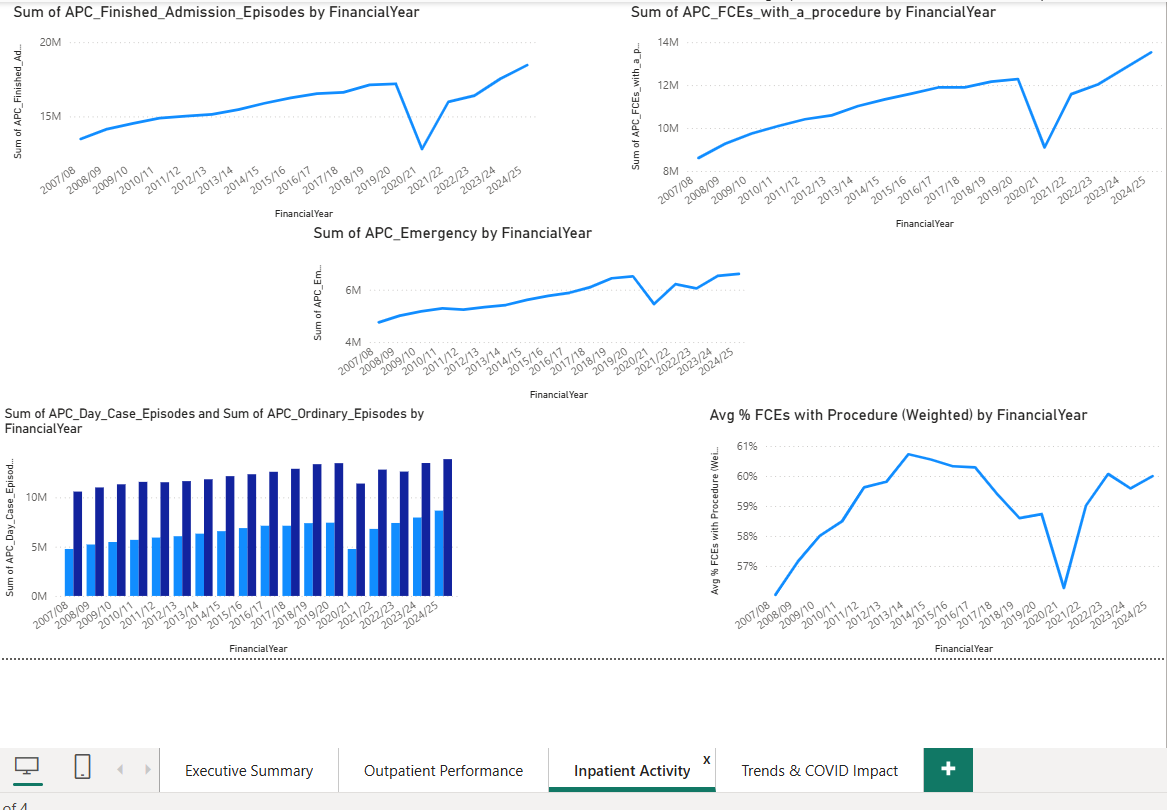

Layout of this report page (visuals, bound fields, positions):
{"tool":"powerbi","page":{"name":"Inpatient Activity","canvas":[1280,720],"ordinal":2},"visuals":[{"type":"lineChart","fields":{"Category":["Dim_Date.FinancialYear"],"Y":["Sum(Fact_Consultation.APC_Finished_Admission_Episodes)"]},"box":[9.8,0,585.7,243.3],"z":0},{"type":"clusteredColumnChart","fields":{"Category":["Dim_Date.FinancialYear"],"Y":["Sum(Fact_Consultation.APC_Day_Case_Episodes)","Sum(Fact_Consultation.APC_Ordinary_Episodes)"]},"box":[0,442.7,511.1,277.6],"z":1000},{"type":"lineChart","fields":{"Category":["Dim_Date.FinancialYear"],"Y":["Sum(Fact_Consultation.APC_FCEs_with_a_procedure)"]},"box":[687.2,0,593.1,254.3],"z":2000},{"type":"lineChart","fields":{"Y":["Fact_Consultation.Avg % FCEs with Procedure (Weighted)"],"Category":["Dim_Date.FinancialYear"]},"box":[774.1,442.7,506.3,277.6],"z":3000},{"type":"lineChart","fields":{"Category":["Dim_Date.FinancialYear"],"Y":["Sum(Fact_Consultation.APC_Emergency)"]},"box":[338.7,243.3,486.7,199.3],"z":4000}]}

Visuals, with their boxes on the page's 1280x720 design canvas (x1, y1, x2, y2). These are canvas units, not pixel positions in the 1167x810 screenshot, which may show the page scaled, cropped or inside an application window:
lineChart - Dim_Date.FinancialYear x Sum(Fact_Consultation.APC_Finished_Admission_Episodes): Rect(10, 0, 596, 243)
clusteredColumnChart - Dim_Date.FinancialYear x Sum(Fact_Consultation.APC_Day_Case_Episodes): Rect(0, 443, 511, 720)
lineChart - Dim_Date.FinancialYear x Sum(Fact_Consultation.APC_FCEs_with_a_procedure): Rect(687, 0, 1280, 254)
lineChart - Fact_Consultation.Avg % FCEs with Procedure (Weighted) x Dim_Date.FinancialYear: Rect(774, 443, 1280, 720)
lineChart - Dim_Date.FinancialYear x Sum(Fact_Consultation.APC_Emergency): Rect(339, 243, 825, 443)
